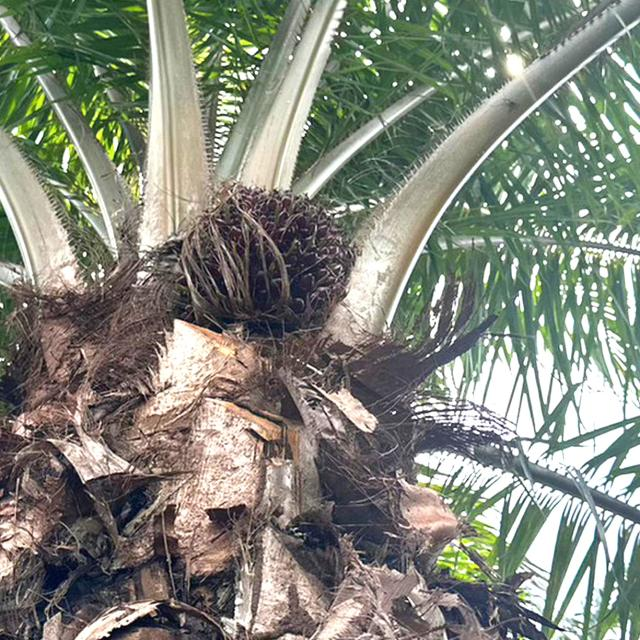ripe: (176, 173, 364, 336)
